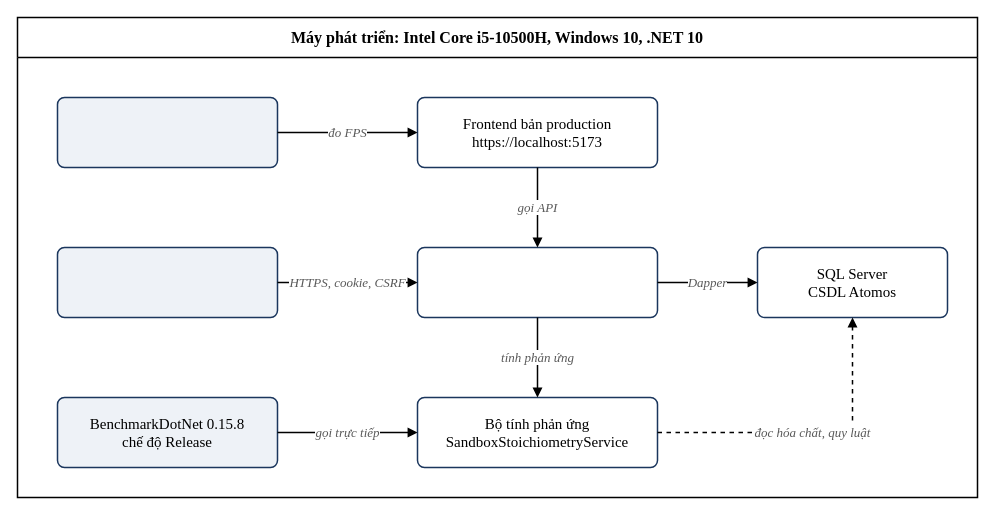
Some shapes in this 996 by 516 pixel diagram are drawn without their labels. Here are the shapes that lost their labels. From the top down, the centre of each, then its label:
At point (167, 132): "Chrome DevTools CPU giả lập chậm 4 lần".
At point (167, 282): "Grafana k6 10 người dùng ảo".
At point (537, 282): "ASP.NET Core Web API https://localhost:7001".
